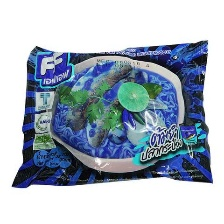snack: (6, 33, 218, 193)
